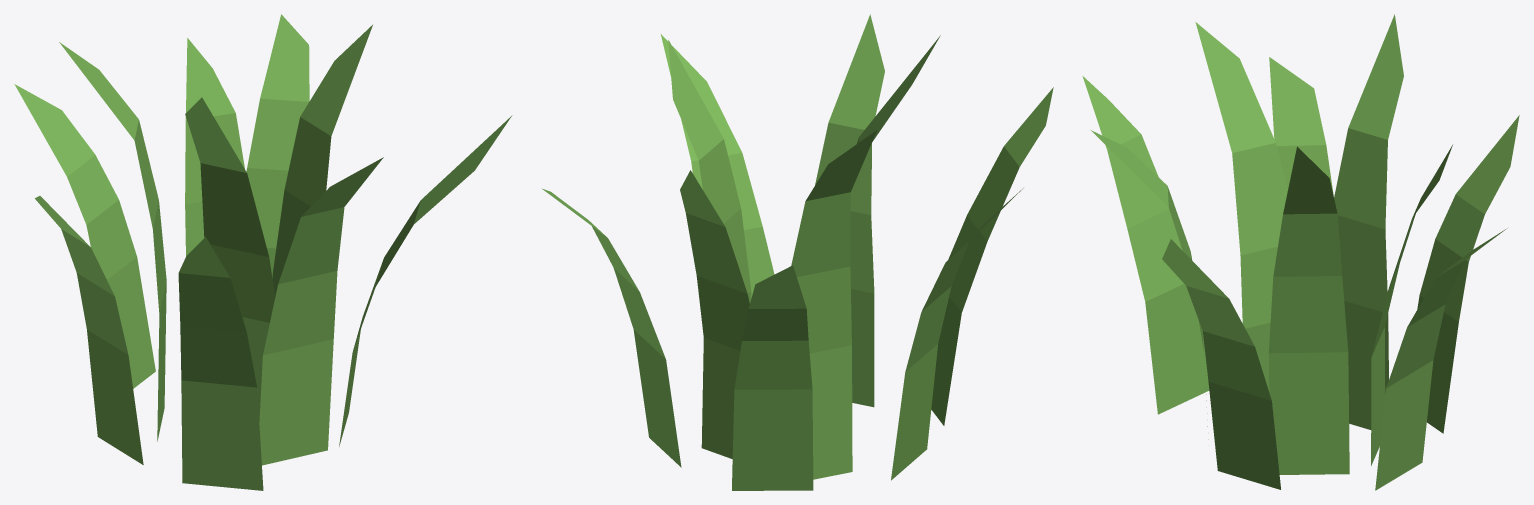
File: weeds3.fbx
The picture shows the model from 3 angles, left to right: view 1: azimuth 30°, elevation 25°; view 2: azimuth 150°, elevation 25°; view 3: azimuth 270°, elevation 25°; orthographic projection. The views are drawn at different scales.
Parts seen in each view (by area): view 1: Plane.001; view 2: Plane.001; view 3: Plane.001.
Boxes of the visible parts, x1,y1,x2,y2 form: Plane.001: [14, 14, 512, 490]; Plane.001: [542, 14, 1053, 490]; Plane.001: [1082, 14, 1519, 490].
Bounding box in the file's own units: 3.52 × 3.3 × 3.2.
1 material, 1 textured.
